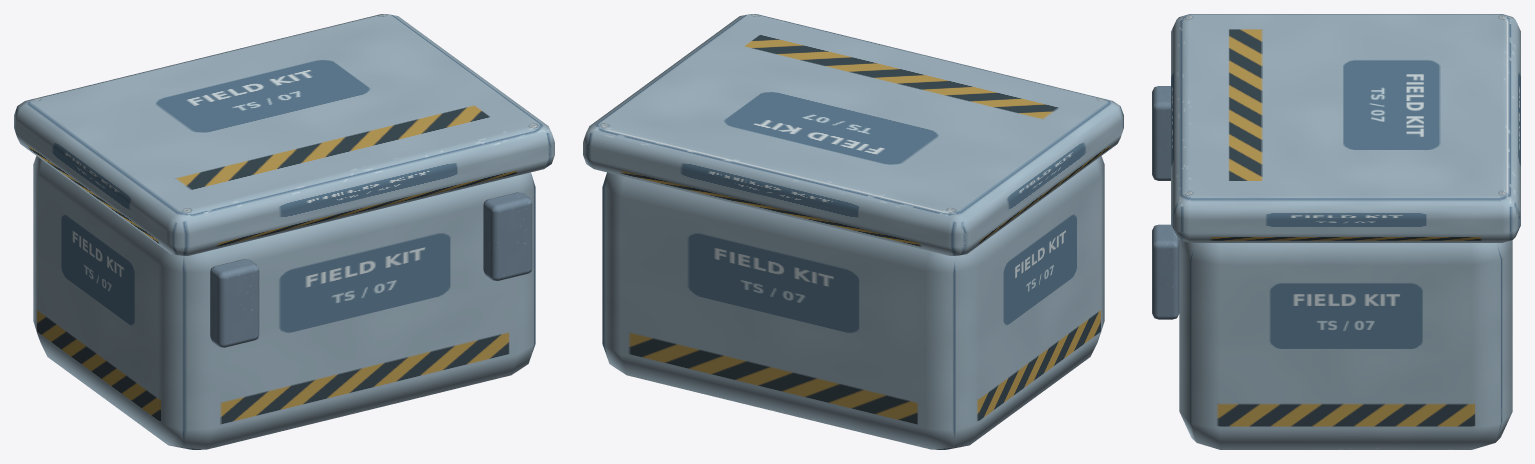
File: SM_UtilityCase.glb
3 renders of one model, left to right at view 1: azimuth 30°, elevation 25°; view 2: azimuth 150°, elevation 25°; view 3: azimuth 270°, elevation 25°, orthographic. The views are drawn at different scales.
Visible parts, largest first — view 1: SM_UtilityCase; view 2: SM_UtilityCase; view 3: SM_UtilityCase.
Boxes of the visible parts, box(x1,y1,x2,y2) form: SM_UtilityCase: box(14, 14, 554, 449); SM_UtilityCase: box(583, 14, 1123, 449); SM_UtilityCase: box(1152, 14, 1520, 449).
Size of the model in its own units: 0.85 by 0.5375 by 0.675.
1 material, 1 textured.
